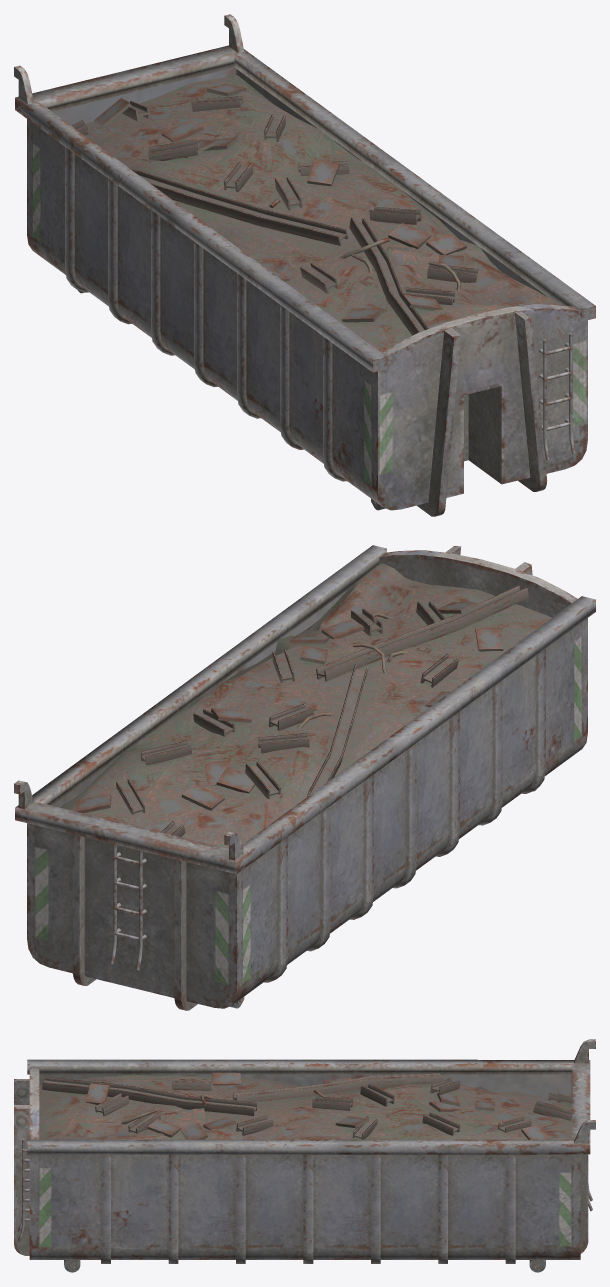
The model's file is sm22_074_dumpsterd.fbx.
3 views of the same model, one above another, from view 1: azimuth 30°, elevation 25°; view 2: azimuth 150°, elevation 25°; view 3: azimuth 270°, elevation 25° (orthographic). The views are drawn at different scales.
Parts seen in each view (by area): view 1: LOD_1_Group_0_Sub_2__sm22_074_dumpsterA_B_Mat, LOD_1_Group_0_Sub_1__sm22_074_dumpsterA_A_Mat; view 2: LOD_1_Group_0_Sub_2__sm22_074_dumpsterA_B_Mat, LOD_1_Group_0_Sub_1__sm22_074_dumpsterA_A_Mat; view 3: LOD_1_Group_0_Sub_2__sm22_074_dumpsterA_B_Mat, LOD_1_Group_0_Sub_1__sm22_074_dumpsterA_A_Mat.
Part boxes in pixels (x1,y1,x2,y2): LOD_1_Group_0_Sub_2__sm22_074_dumpsterA_B_Mat: (15,45,595,516); LOD_1_Group_0_Sub_1__sm22_074_dumpsterA_A_Mat: (14,14,587,510); LOD_1_Group_0_Sub_2__sm22_074_dumpsterA_B_Mat: (15,545,595,1010); LOD_1_Group_0_Sub_1__sm22_074_dumpsterA_A_Mat: (14,550,577,940); LOD_1_Group_0_Sub_2__sm22_074_dumpsterA_B_Mat: (14,1059,592,1272); LOD_1_Group_0_Sub_1__sm22_074_dumpsterA_A_Mat: (24,1039,595,1221).
Bounding box in the file's own units: 2.84 × 2.5 × 8.17.
